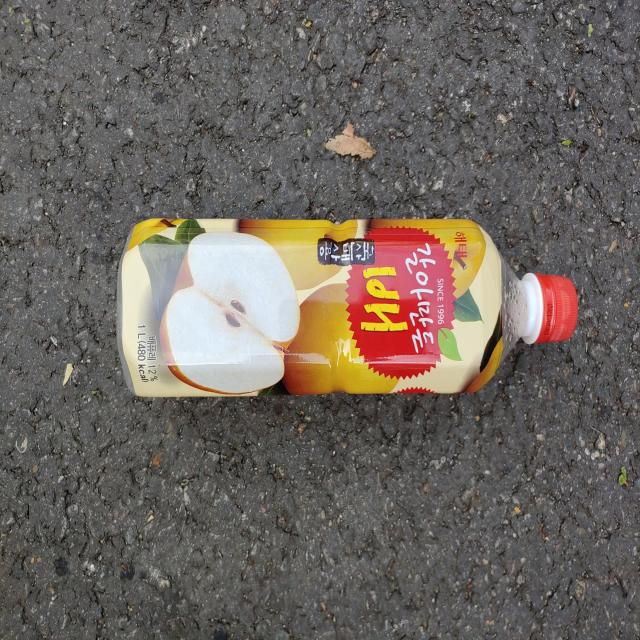plastic: (117, 218, 578, 397)
